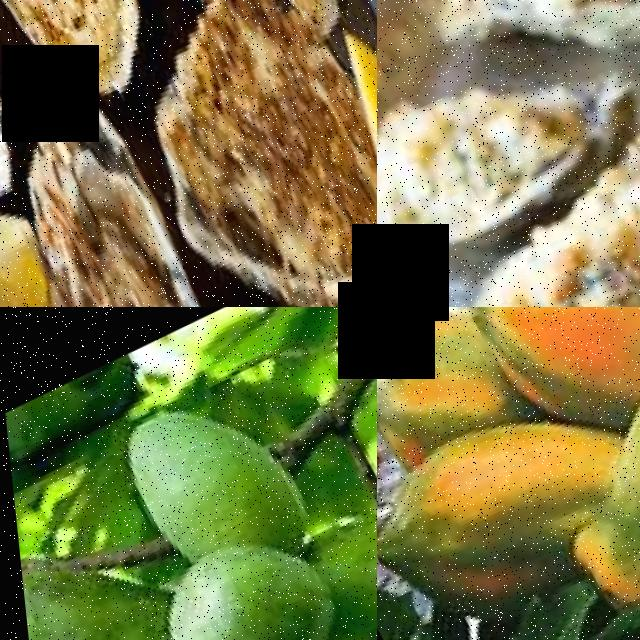mango: (94, 366, 324, 586), (126, 516, 359, 640), (12, 528, 186, 640), (290, 478, 377, 640)
oysters: (77, 0, 377, 307), (0, 84, 228, 307), (399, 158, 640, 307)
pawpaw: (377, 409, 602, 640), (377, 307, 538, 479), (455, 307, 640, 441)
